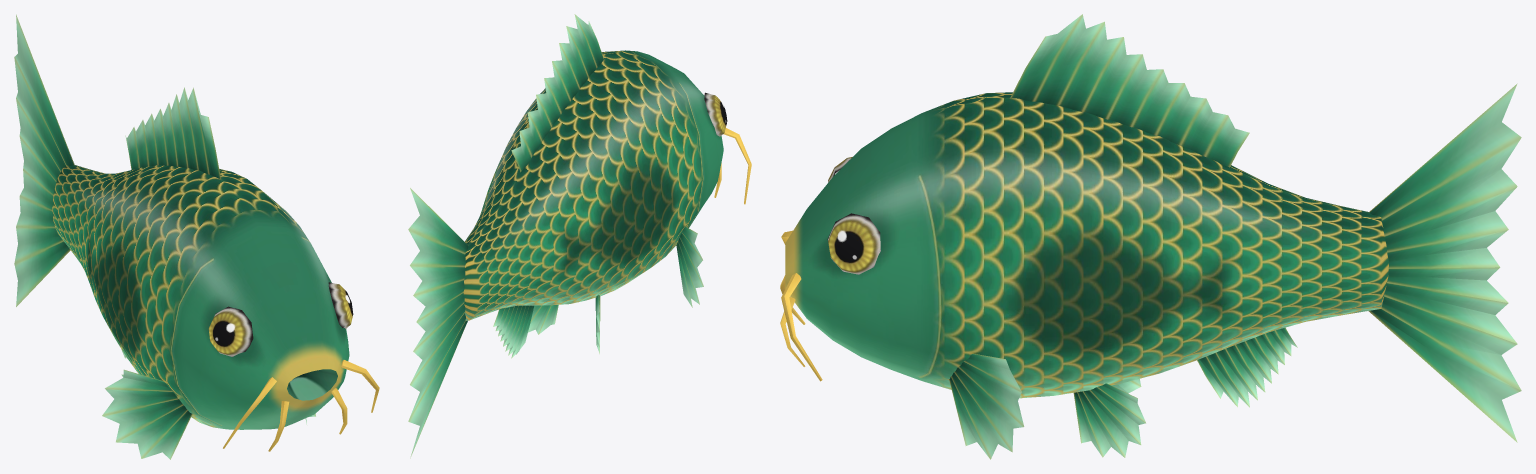
The model's file is old-mossglass.glb.
3 renders of one model, left to right at view 1: azimuth 30°, elevation 25°; view 2: azimuth 150°, elevation 25°; view 3: azimuth 270°, elevation 25°, orthographic. The views are drawn at different scales.
Visible parts, largest first — view 1: old-mossglass; view 2: old-mossglass; view 3: old-mossglass.
Part boxes in pixels (x1=…): old-mossglass: x1=14, y1=14, x2=379, y2=459; old-mossglass: x1=408, y1=14, x2=751, y2=458; old-mossglass: x1=780, y1=14, x2=1521, y2=459.
Bounding box in the file's own units: 0.4318 × 0.6383 × 1.
1 material, 1 textured.
